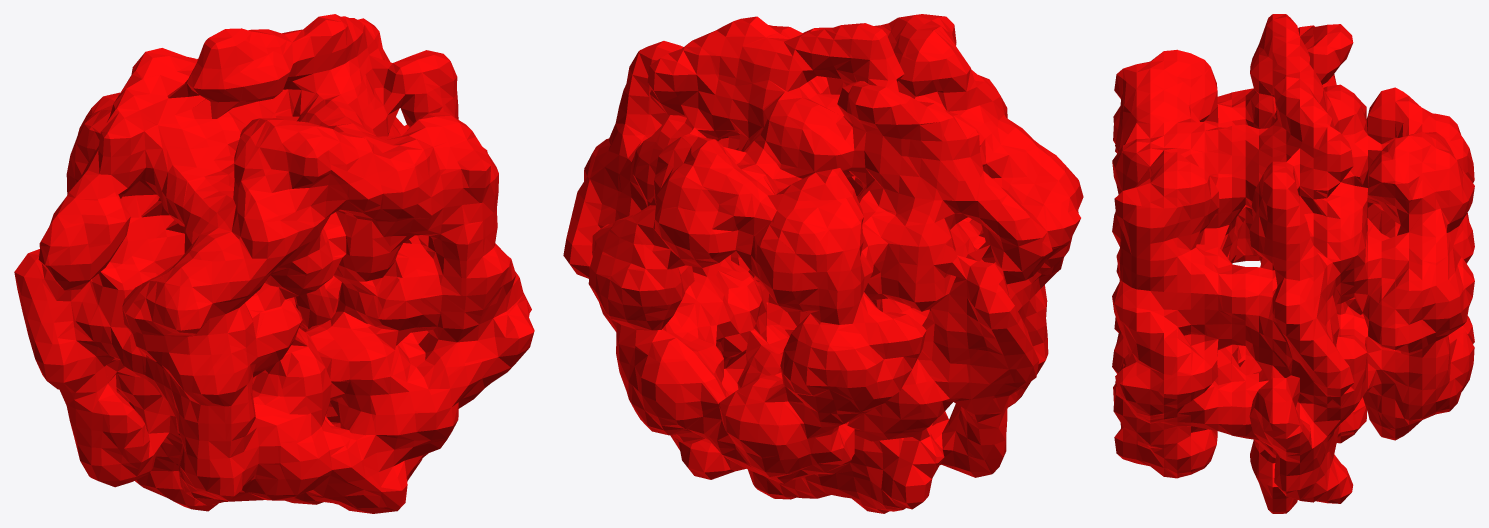
File: clpB_coarse.dae
The picture shows the model from 3 angles, left to right: view 1: azimuth 30°, elevation 25°; view 2: azimuth 150°, elevation 25°; view 3: azimuth 270°, elevation 25°; orthographic projection. The views are drawn at different scales.
Parts seen in each view (by area): view 1: clpB; view 2: clpB; view 3: clpB.
Boxes of the visible parts, x1,y1,x2,y2 form: clpB: (14,14,534,513); clpB: (563,14,1083,513); clpB: (1112,14,1474,513).
Bounding box in the file's own units: 160 × 164 × 118.
